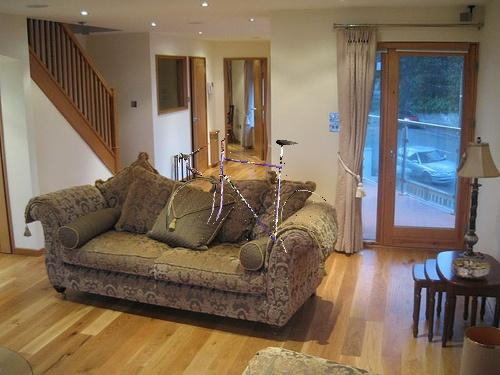tampered: (167, 133, 339, 262)
